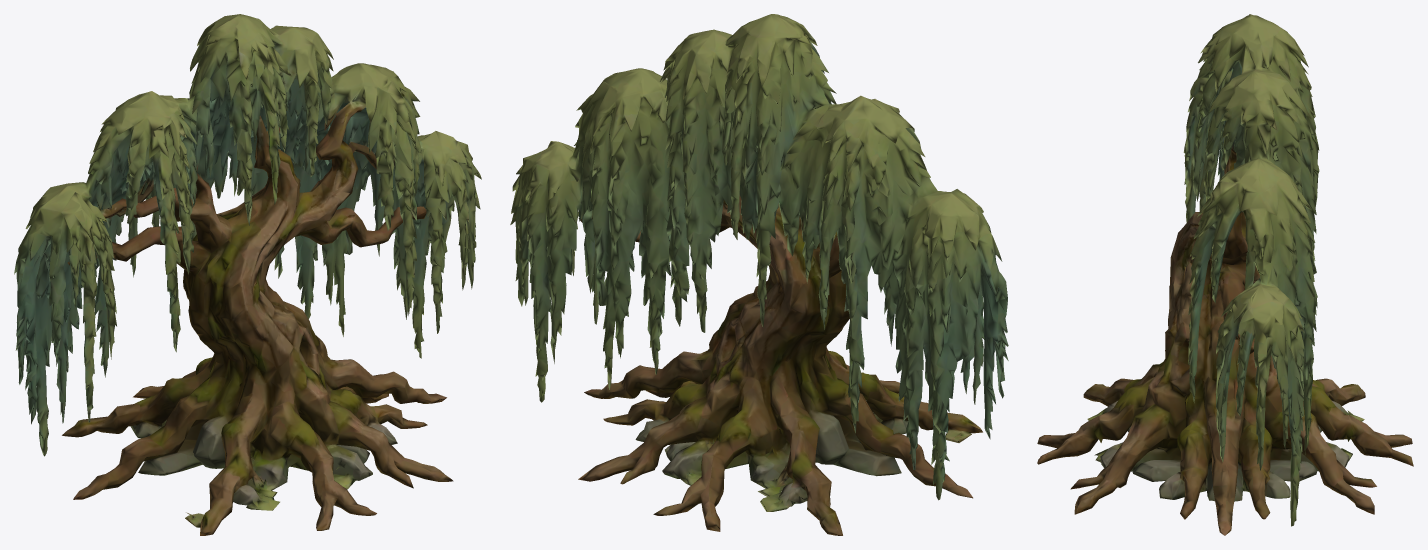
File: willow_tree.glb
The picture shows the model from 3 angles, left to right: view 1: azimuth 30°, elevation 25°; view 2: azimuth 150°, elevation 25°; view 3: azimuth 270°, elevation 25°; orthographic projection. The views are drawn at different scales.
Visible parts, largest first — view 1: tripo_node_6ac9cd81-e8f1-411c-9f3f-19bbb8cdc6cf; view 2: tripo_node_6ac9cd81-e8f1-411c-9f3f-19bbb8cdc6cf; view 3: tripo_node_6ac9cd81-e8f1-411c-9f3f-19bbb8cdc6cf.
Part boxes in pixels (x1,y1,x2,y2): tripo_node_6ac9cd81-e8f1-411c-9f3f-19bbb8cdc6cf: [14, 14, 481, 535]; tripo_node_6ac9cd81-e8f1-411c-9f3f-19bbb8cdc6cf: [510, 14, 1008, 535]; tripo_node_6ac9cd81-e8f1-411c-9f3f-19bbb8cdc6cf: [1037, 14, 1413, 535].
Bounding box in the file's own units: 0.9787 × 0.8584 × 0.6717.
1 material, 1 textured.
